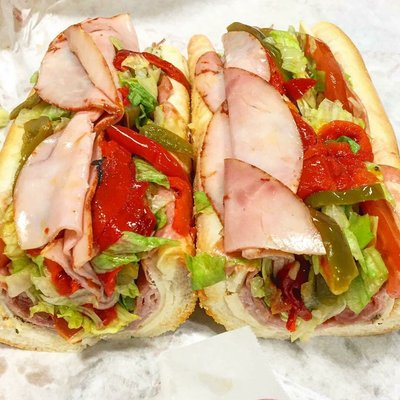soup: (186, 22, 400, 348)
